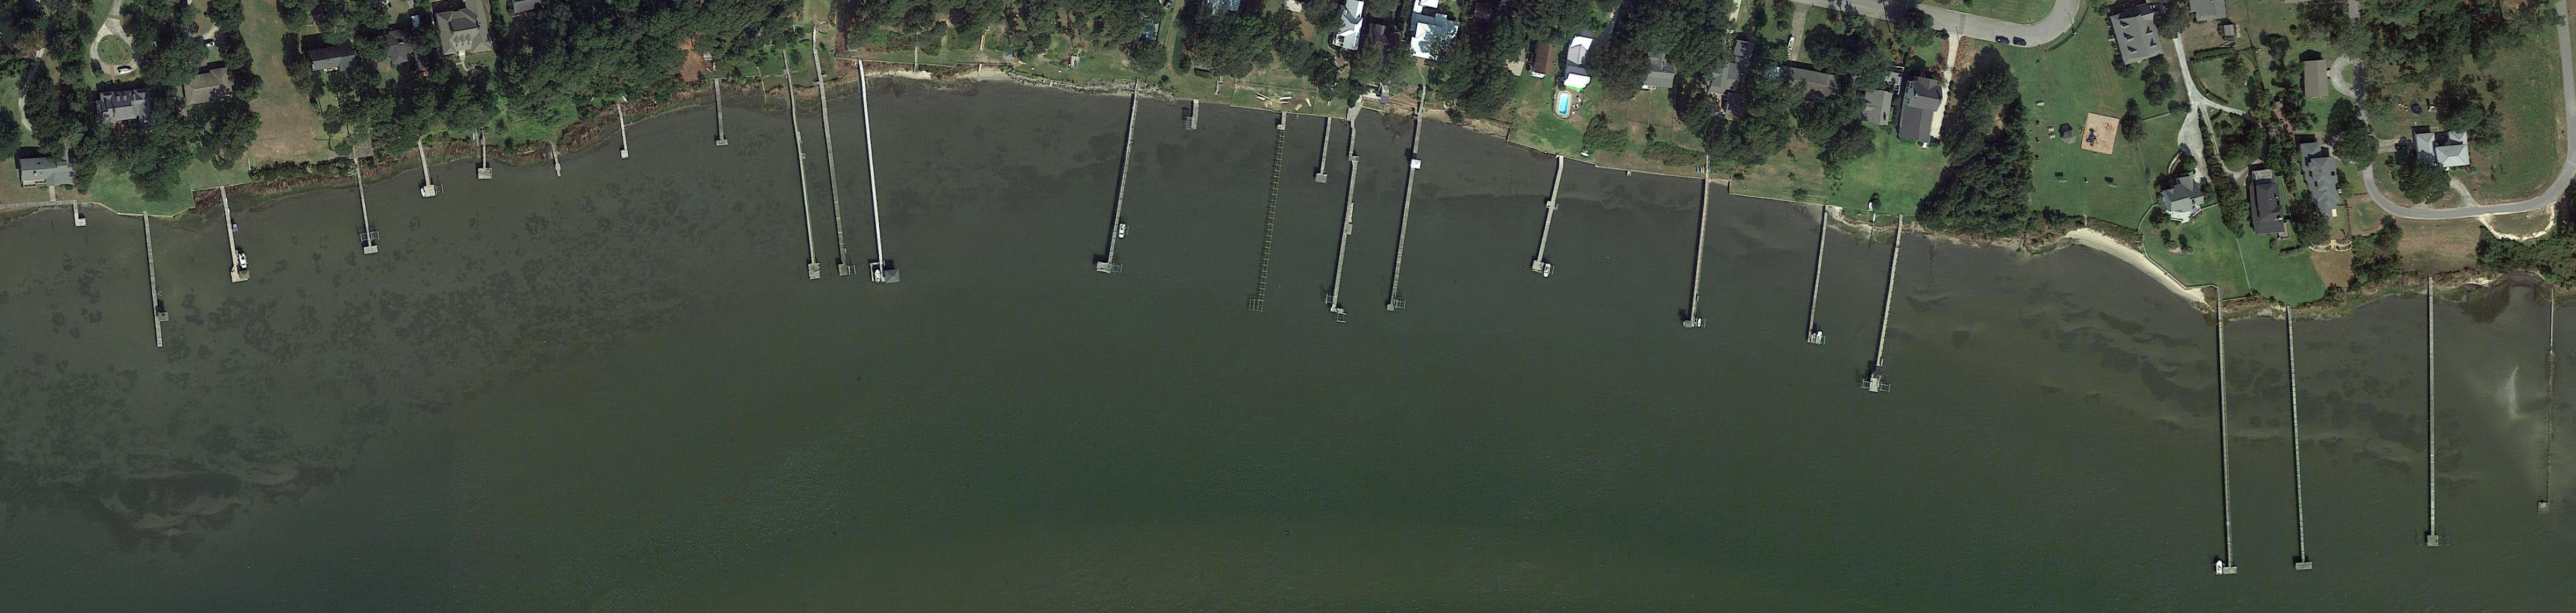harbor: (853, 77, 900, 286), (1324, 128, 1368, 314), (2282, 316, 2313, 570), (1096, 95, 1140, 271), (785, 82, 821, 281), (1387, 120, 1423, 312), (2213, 322, 2239, 575), (1868, 230, 1906, 393), (816, 90, 849, 276), (141, 209, 174, 348), (1531, 156, 1569, 274), (1684, 179, 1712, 329), (1807, 212, 1833, 345), (217, 182, 251, 283), (2426, 296, 2440, 547), (352, 164, 378, 256), (1316, 117, 1336, 184), (416, 143, 437, 199), (711, 79, 728, 146), (614, 108, 629, 159), (478, 138, 493, 179), (72, 200, 87, 227), (552, 146, 563, 177), (1191, 99, 1201, 130), (1278, 113, 1288, 130)
ship: (238, 253, 248, 270), (1786, 36, 1796, 53), (1543, 263, 1552, 278), (1119, 224, 1127, 238), (2215, 560, 2223, 575), (1815, 330, 1824, 345), (874, 270, 881, 283), (419, 187, 425, 199), (232, 224, 238, 235), (1695, 317, 1702, 329), (1868, 202, 1873, 212)
